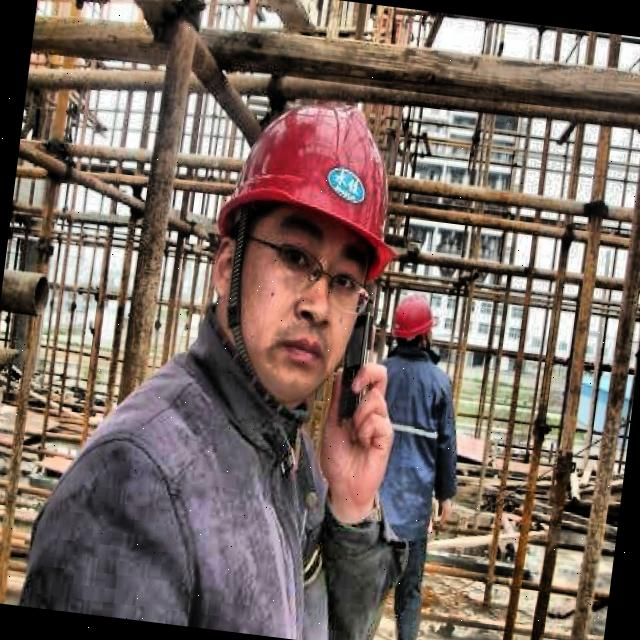helmet: (179, 62, 425, 423), (384, 288, 442, 358)
